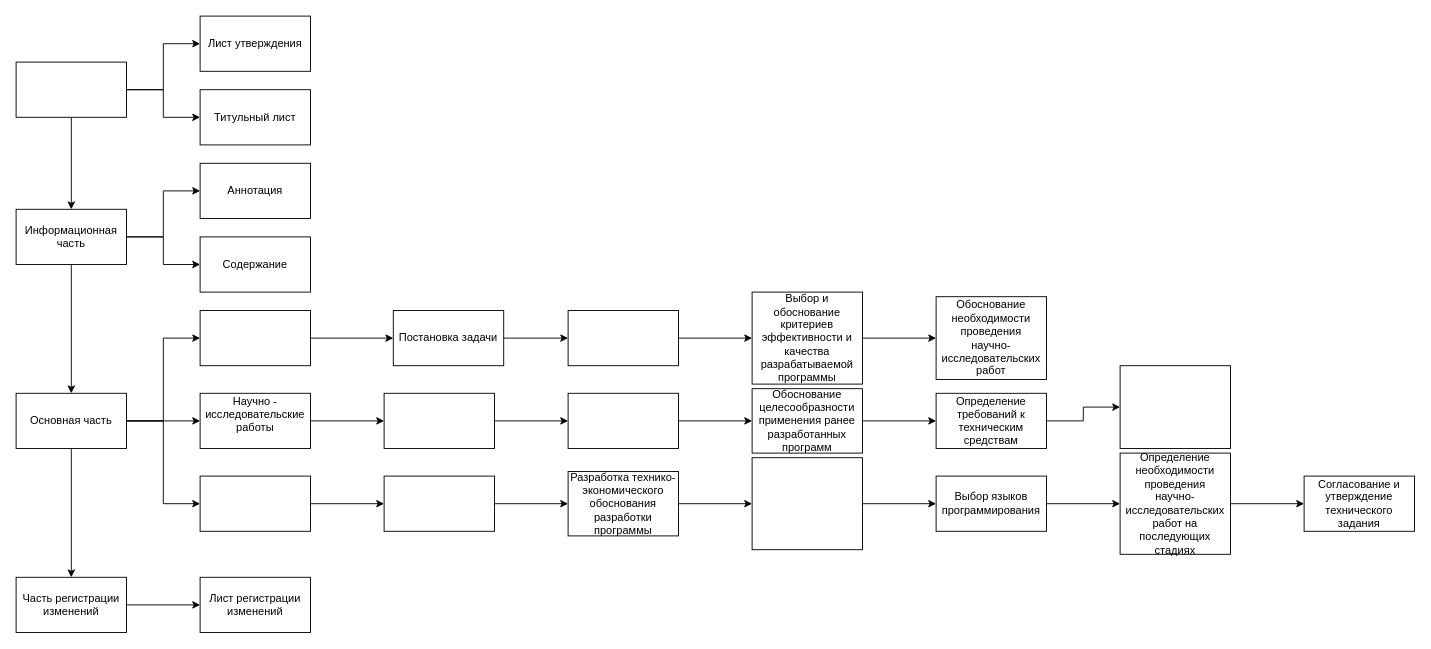
Some shapes in this 1431 by 649 pixel diagram are drawn without their labels. Each missing label, with the centre of its shape:
Обоснование необходимости разработки программы: (x=254, y=338)
Обоснование принципиальной возможности решения поставленной задачи: (x=1174, y=406)
Определение стадий, этапов и сроков разработки программы и документации на неё: (x=806, y=503)
Определение структуры входных и выходных данных: (x=438, y=420)
Определение требований к программе: (x=438, y=503)
Предварительный выбор методов решения задач: (x=622, y=420)
Разработка и утверждение технического задания: (x=254, y=503)
Сбор исходных материалов: (x=622, y=338)
Титульная часть: (x=70, y=89)
